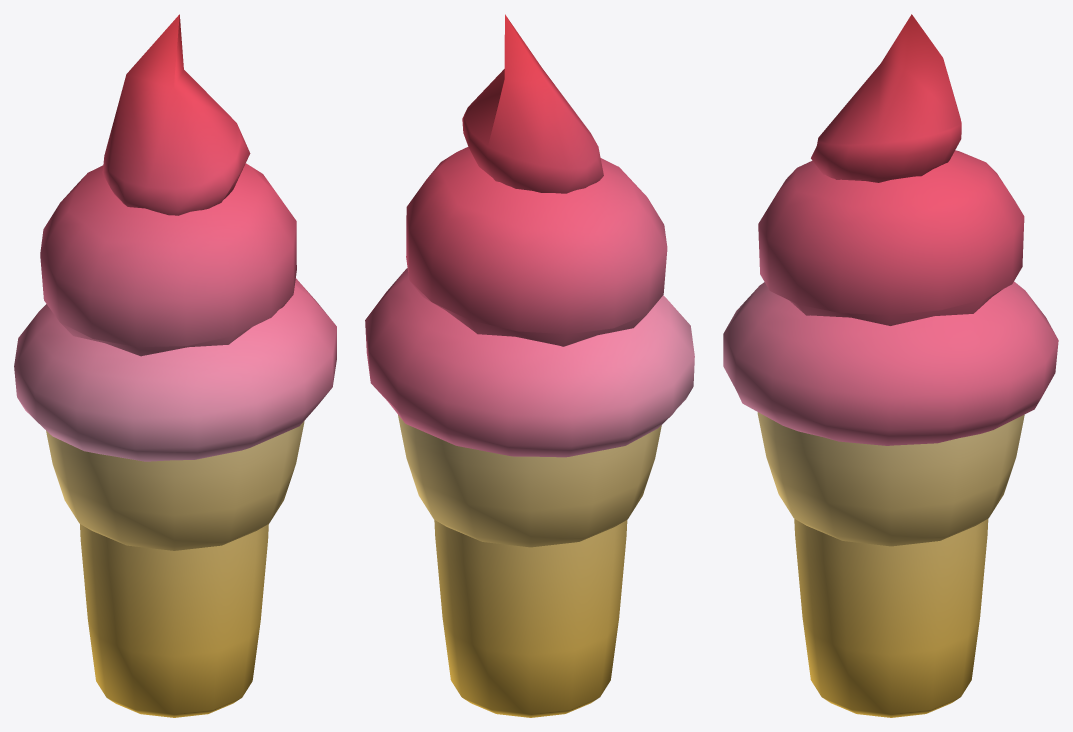
The model's file is ice_cream_001.glb.
The picture shows the model from 3 angles, left to right: view 1: azimuth 30°, elevation 25°; view 2: azimuth 150°, elevation 25°; view 3: azimuth 270°, elevation 25°; orthographic projection. The views are drawn at different scales.
Visible parts, largest first — view 1: ice_cream_001; view 2: ice_cream_001; view 3: ice_cream_001.
Part boxes in pixels (x1,y1,x2,y2): ice_cream_001: (14, 14, 336, 717); ice_cream_001: (365, 14, 694, 717); ice_cream_001: (723, 14, 1058, 717).
Size of the model in its own units: 0.0718 by 0.1618 by 0.0721.
1 material, 1 textured.
